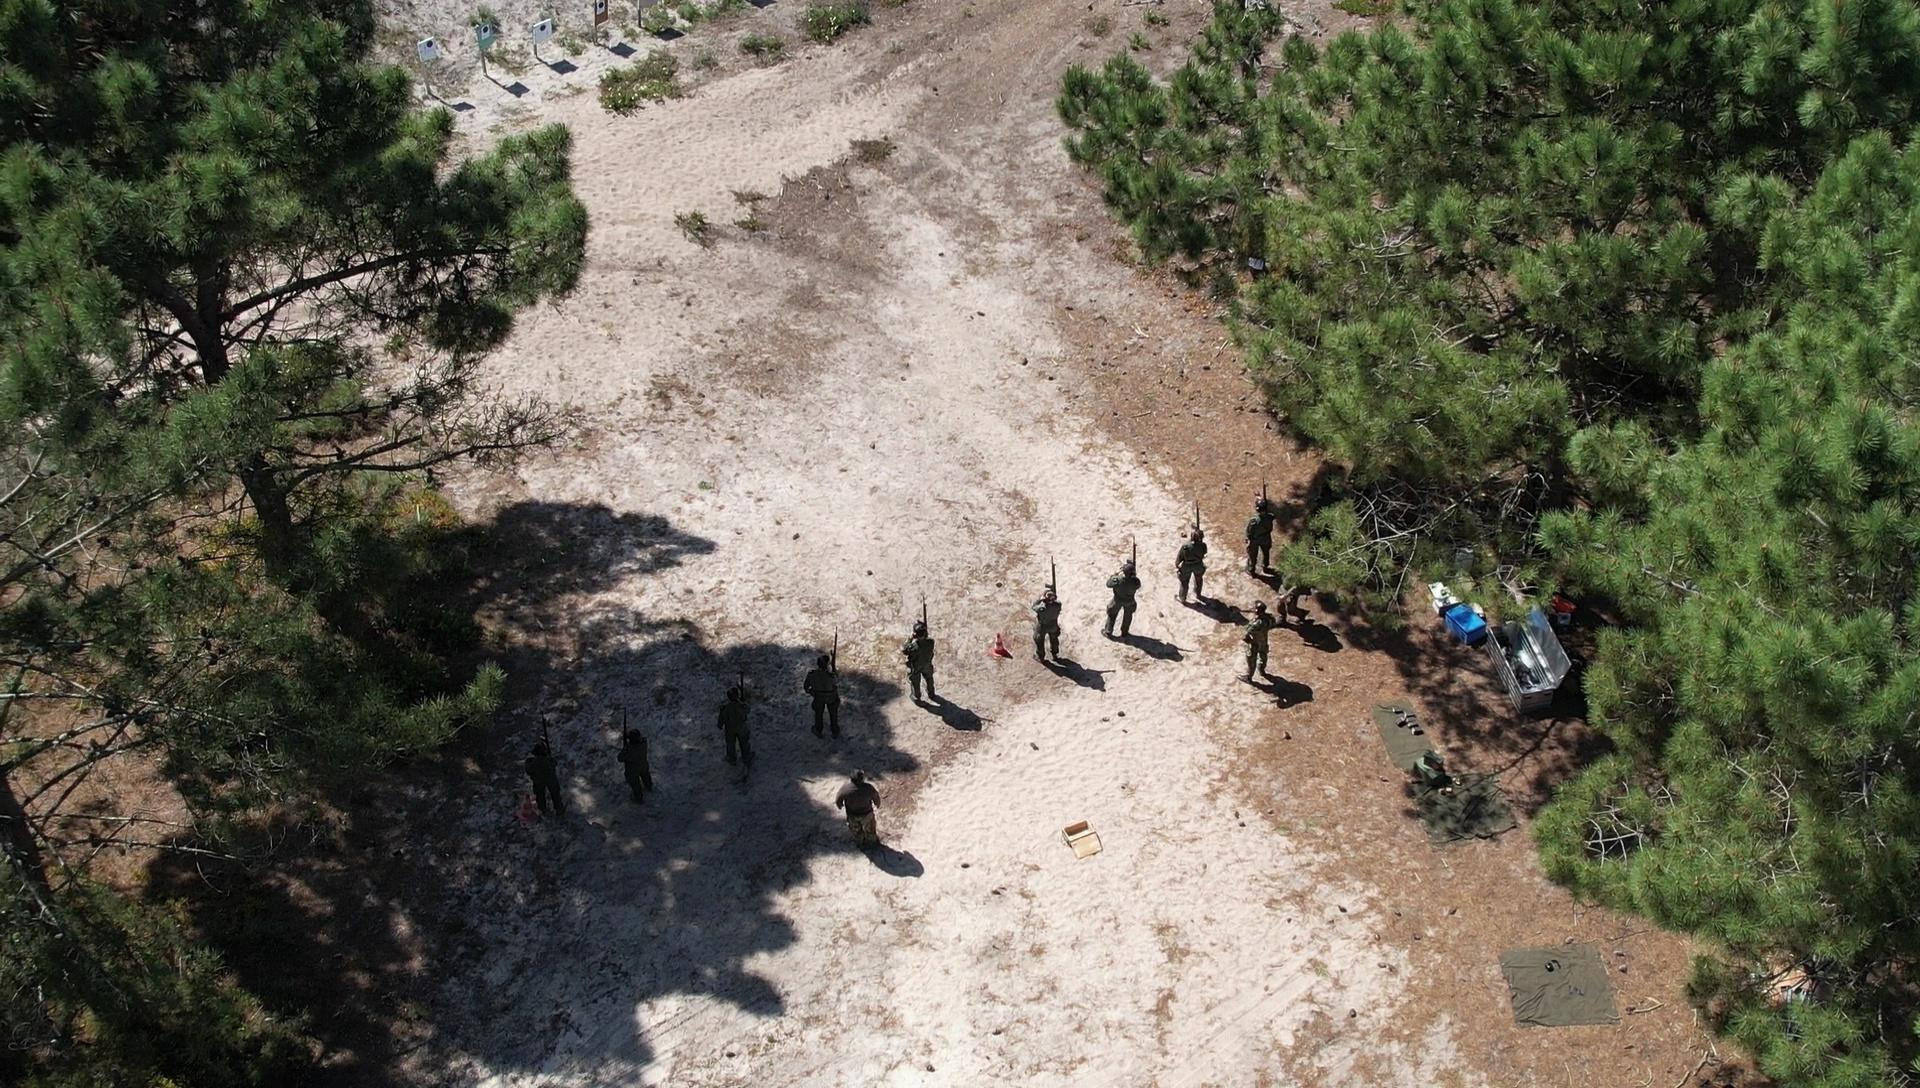Soldier: (509, 716, 571, 840), (795, 624, 851, 750), (829, 766, 893, 864), (1100, 531, 1146, 659), (712, 670, 764, 785), (612, 699, 661, 818), (1025, 568, 1073, 684), (898, 611, 938, 735), (1236, 591, 1284, 683), (1171, 509, 1213, 615), (1244, 472, 1278, 571)
